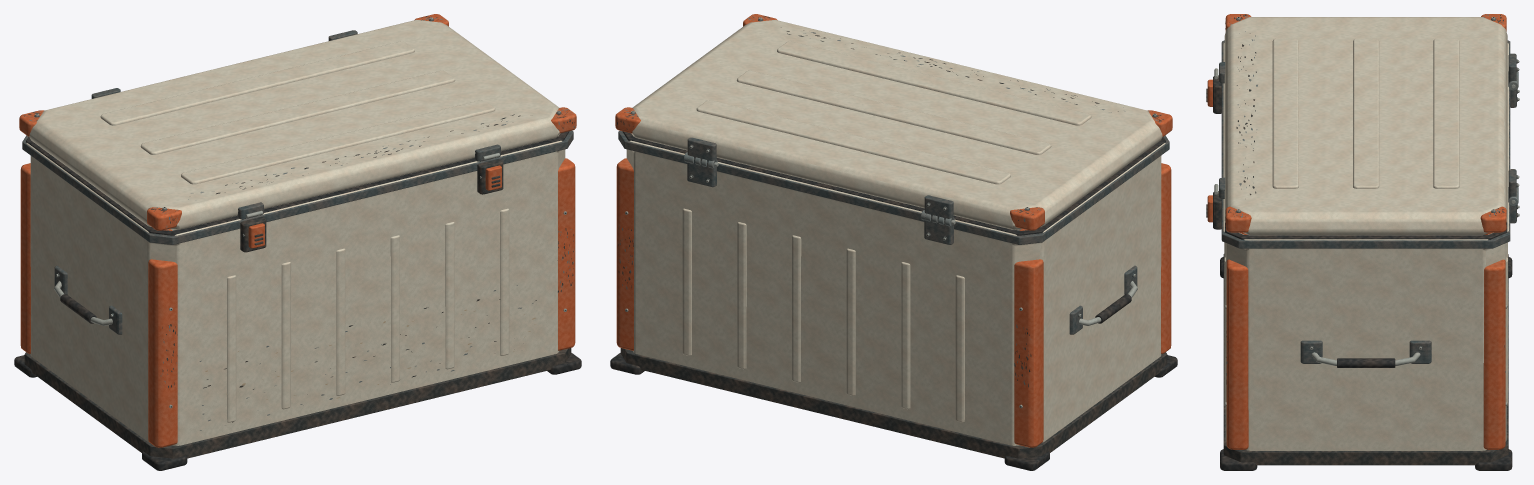
The model's file is fitout_crate_large.glb.
The picture shows the model from 3 angles, left to right: view 1: azimuth 30°, elevation 25°; view 2: azimuth 150°, elevation 25°; view 3: azimuth 270°, elevation 25°; orthographic projection.
Visible parts, largest first — view 1: FitoutCrateLarge_rover_white, Lid_rover_white, FitoutCrateLarge_orange, FitoutCrateLarge_graphite, FitoutCrateLarge_dark_alloy, FitoutCrateLarge_black_rubber, Lid_orange, Lid_dark_alloy; view 2: FitoutCrateLarge_rover_white, Lid_rover_white, FitoutCrateLarge_orange, FitoutCrateLarge_graphite, FitoutCrateLarge_dark_alloy, FitoutCrateLarge_black_rubber, Lid_orange, Lid_dark_alloy; view 3: Lid_rover_white, FitoutCrateLarge_rover_white, FitoutCrateLarge_orange, FitoutCrateLarge_graphite, FitoutCrateLarge_dark_alloy, FitoutCrateLarge_black_rubber, Lid_orange, Lid_dark_alloy, FitoutCrateLarge_satin_steel.
Boxes of the visible parts, bbox=[...] form: FitoutCrateLarge_rover_white: bbox=[26, 133, 565, 445]; Lid_rover_white: bbox=[29, 19, 559, 229]; FitoutCrateLarge_orange: bbox=[20, 158, 575, 447]; FitoutCrateLarge_graphite: bbox=[24, 159, 573, 458]; FitoutCrateLarge_dark_alloy: bbox=[22, 130, 573, 334]; FitoutCrateLarge_black_rubber: bbox=[14, 131, 581, 470]; Lid_orange: bbox=[19, 14, 576, 230]; Lid_dark_alloy: bbox=[34, 19, 561, 219]; FitoutCrateLarge_rover_white: bbox=[626, 133, 1165, 445]; Lid_rover_white: bbox=[632, 19, 1162, 229]; FitoutCrateLarge_orange: bbox=[616, 158, 1171, 447]; FitoutCrateLarge_graphite: bbox=[618, 177, 1167, 458]; FitoutCrateLarge_dark_alloy: bbox=[618, 130, 1169, 334]; FitoutCrateLarge_black_rubber: bbox=[610, 131, 1177, 470]; Lid_orange: bbox=[615, 14, 1172, 230]; Lid_dark_alloy: bbox=[630, 19, 1157, 220]; Lid_rover_white: bbox=[1224, 17, 1507, 235]; FitoutCrateLarge_rover_white: bbox=[1223, 43, 1508, 450]; FitoutCrateLarge_orange: bbox=[1207, 79, 1505, 449]; FitoutCrateLarge_graphite: bbox=[1206, 75, 1519, 465]; FitoutCrateLarge_dark_alloy: bbox=[1221, 40, 1517, 363]; FitoutCrateLarge_black_rubber: bbox=[1220, 222, 1512, 470]; Lid_orange: bbox=[1225, 14, 1506, 232]; Lid_dark_alloy: bbox=[1219, 18, 1517, 212]; FitoutCrateLarge_satin_steel: bbox=[1225, 84, 1519, 405].
Size of the model in its own units: 1.3 by 0.711 by 0.7891.
10 materials, 9 textured.
